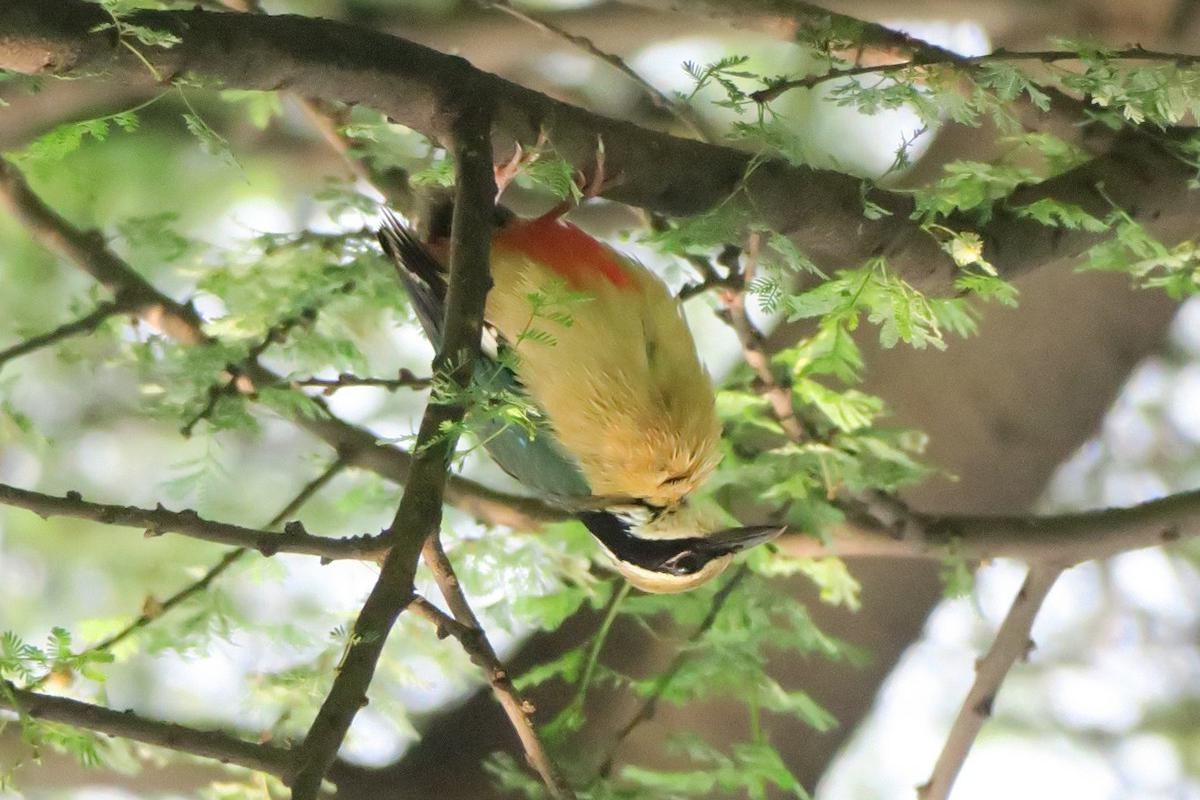pitta: (395, 56, 841, 634)
